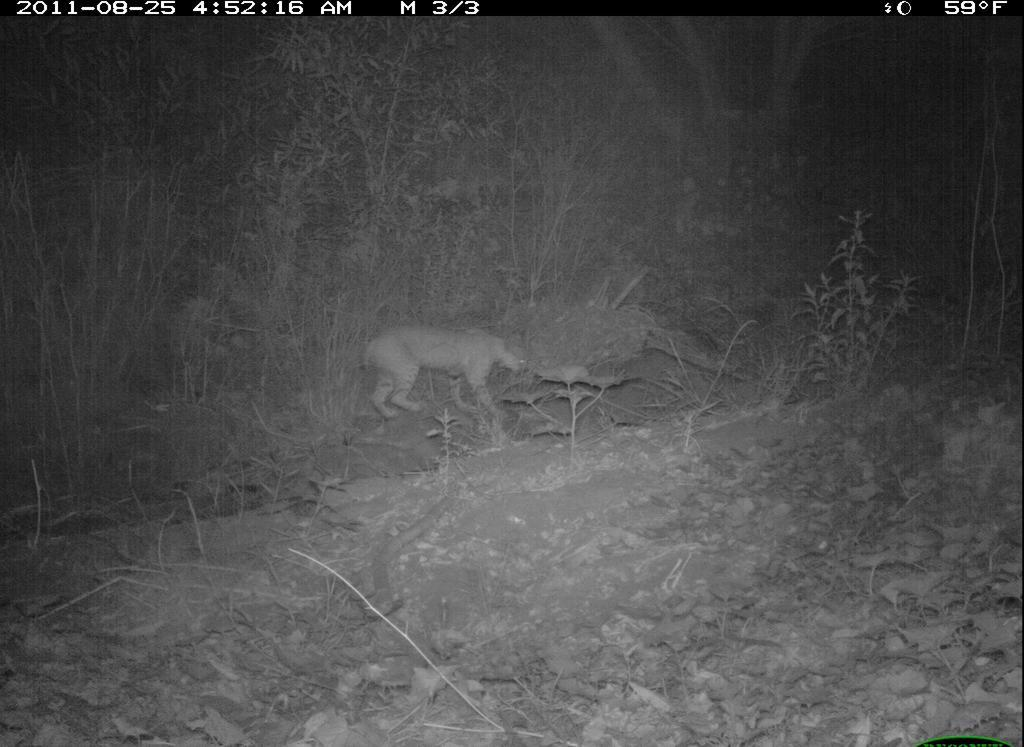bobcat: (356, 317, 542, 434)
